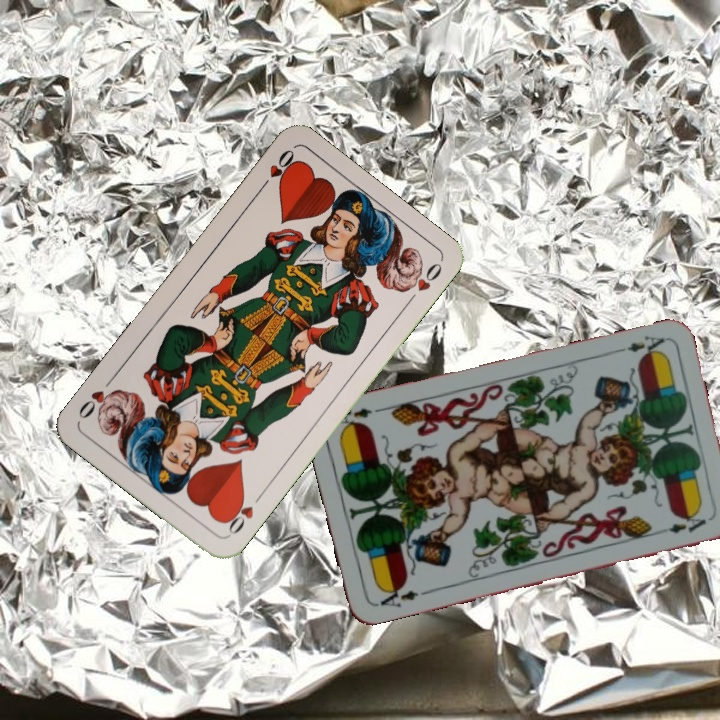EA: (610, 331, 667, 361), (372, 581, 421, 610)
HO: (220, 488, 266, 539), (254, 145, 298, 195)
